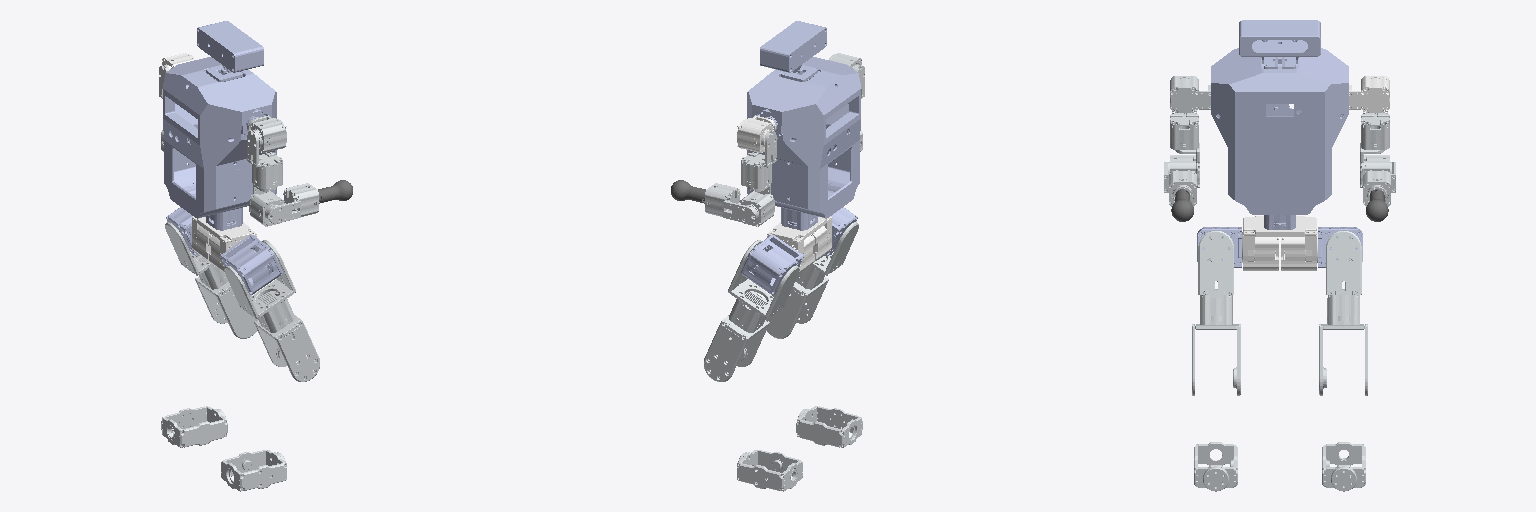
URDF robot description (hi_cl_23_240925):
<?xml version="1.0" encoding="utf-8"?>
<!--
This URDF was automatically created by SolidWorks to URDF Exporter! Originally created by [author] ([email redacted])
Commit Version: 1.6.0-4-g7f85cfe  Build Version: 1.6.7995.38578
For more information, please see http://wiki.ros.org/sw_urdf_exporter
-->
<robot name="hi_cl_23_240925">
	<mujoco>
		<compiler meshdir="meshes/" balanceinertia="true" discardvisual="false" />
	</mujoco>
	<link name="base_link">
		<inertial>
			<origin xyz="-0.00154853 -7.263E-05 -0.0269642" rpy="0 0 0" />
			<mass value="4" />
			<inertia ixx="0.00957622" ixy="1.02E-06" ixz="-8.442E-05" iyy="0.00654424" iyz="1.11E-06" izz="0.00526567" />
		</inertial>
		<visual>
			<origin xyz="0 0 0" rpy="0 0 0" />
			<geometry>
				<mesh filename="meshes/base_link.STL" />
			</geometry>
			<material name="">
				<color rgba="0.79216 0.81961 0.93333 1" />
			</material>
		</visual>
		<collision>
			<origin xyz="0 0 -0.07" rpy="0 0 0" />
			<geometry>
				<box size="0.14 0.20 0.25" />
				<!-- <mesh filename="meshes/base_link.STL" /> -->
			</geometry>
		</collision>
	</link>
<!-- right arm -->
	<link name="r_shoulder_pitch_link">
		<inertial>
			<origin xyz="0.00242196 -0.058252 -8.6807E-05" rpy="0 0 0" />
			<mass value="0.35" />
			<inertia ixx="0.00017393" ixy="-1.346E-05" ixz="-1.1E-07" iyy="0.00013651" iyz="-8E-07" izz="0.00020583" />
		</inertial>
		<visual>
			<origin xyz="0 0 0" rpy="0 0 0" />
			<geometry>
				<mesh filename="meshes/r_shoulder_pitch_link.STL" />
			</geometry>
			<material name="">
				<color rgba="0.89804 0.91765 0.92941 1" />
			</material>
		</visual>
		<collision>
			<origin xyz="0.00242196 -0.068252 -8.6807E-05" rpy="0 0 0" />
			<geometry>
				<box size="0.05 0.05 0.05" />
			</geometry>
		</collision>
	</link>
	<joint name="r_shoulder_pitch_joint" type="revolute">
		<origin xyz="0 -0.08085 0" rpy="0 0 0" />
		<parent link="base_link" />
		<child link="r_shoulder_pitch_link" />
		<axis xyz="0 1 0" />
		<limit lower="-3.14" upper="3.14" effort="16" velocity="21" />
	</joint>
	<link name="r_shoulder_roll_link">
		<inertial>
			<origin xyz="-0.0088047 -8.8789E-05 -0.052824" rpy="0 0 0" />
			<mass value="0.35" />
			<inertia ixx="0.00028497" ixy="-4.1E-07" ixz="8.018E-05" iyy="0.00032147" iyz="-3.6E-07" izz="0.00014121" />
		</inertial>
		<visual>
			<origin xyz="0 0 0" rpy="0 0 0" />
			<geometry>
				<mesh filename="meshes/r_shoulder_roll_link.STL" />
			</geometry>
			<material name="">
				<color rgba="0.89804 0.91765 0.92941 1" />
			</material>
		</visual>
		<collision>
			<origin xyz="-0.009 0.0 -0.052" rpy="0 0 0" />
			<geometry>
				<box size="0.04 0.04 0.04" />
			</geometry>
		</collision>
	</link>
	<joint name="r_shoulder_roll_joint" type="revolute">
		<origin xyz="0 -0.06515 0" rpy="0 0 0" />
		<parent link="r_shoulder_pitch_link" />
		<child link="r_shoulder_roll_link" />
		<axis xyz="1 0 0" />
		<limit lower="-3.14" upper="0.45" effort="16" velocity="21" />
	</joint>
	<link name="r_arm_yaw_link">
		<inertial>
			<origin xyz="-0.002422 -8.6807E-05 -0.059552" rpy="0 0 0" />
			<mass value="0.35" />
			<inertia ixx="0.00017393" ixy="1.1E-07" ixz="1.346E-05" iyy="0.00020583" iyz="-8E-07" izz="0.00013651" />
		</inertial>
		<visual>
			<origin xyz="0 0 0" rpy="0 0 0" />
			<geometry>
				<mesh filename="meshes/r_arm_yaw_link.STL" />
			</geometry>
			<material name="">
				<color rgba="0.89804 0.91765 0.92941 1" />
			</material>
		</visual>
	</link>
	<joint name="r_arm_yaw_joint" type="revolute">
		<origin xyz="-0.0026 0 -0.06495" rpy="0 0 -1.5707963" />
		<parent link="r_shoulder_roll_link" />
		<child link="r_arm_yaw_link" />
		<axis xyz="0 0 1" />
		<limit lower="-3.14" upper="3.14" effort="16" velocity="21" />
	</joint>
	<link name="r_arm_roll_link">
		<inertial>
			<origin xyz="0.0088047 8.8789E-05 -0.052824" rpy="0 0 0" />
			<mass value="0.35" />
			<inertia ixx="0.00028497" ixy="-4.1E-07" ixz="-8.018E-05" iyy="0.00032147" iyz="3.6E-07" izz="0.00014121" />
		</inertial>
		<visual>
			<origin xyz="0 0 0" rpy="0 0 0" />
			<geometry>
				<mesh filename="meshes/r_arm_roll_link.STL" />
			</geometry>
			<material name="">
				<color rgba="0.89804 0.91765 0.92941 1" />
			</material>
		</visual>
		<collision>
			<origin xyz="0.0088047 8.8789E-05 -0.032824" rpy="0 0 0" />
			<geometry>
				<box size="0.03 0.03 0.14" />
			</geometry>
		</collision>
	</link>
	<joint name="r_arm_roll_joint" type="revolute">
		<origin xyz="0 0 -0.06645" rpy="1.5707963 0 0" />
		<parent link="r_arm_yaw_link" />
		<child link="r_arm_roll_link" />
		<axis xyz="1 0 0" />
		<limit lower="-3.14" upper="0.4" effort="16" velocity="21" />
	</joint>
	<link name="r_wrist_yaw_link">
		<inertial>
			<origin xyz="0 0 -0.06558" rpy="0 0 0" />
			<mass value="0.035143" />
			<inertia ixx="1.2175E-05" ixy="9.4252E-23" ixz="1.2115E-20" iyy="1.2175E-05" iyz="-1.456E-19" izz="3.7315E-06" />
		</inertial>
		<visual>
			<origin xyz="0 0 0" rpy="0 0 0" />
			<geometry>
				<mesh filename="meshes/r_wrist_yaw_link.STL" />
			</geometry>
			<material name="">
				<color rgba="0.49804 0.49804 0.49804 1" />
			</material>
		</visual>
		<collision>
			<origin xyz="0 0 -0.07558" rpy="0 0 0" />
			<geometry>
 				<sphere radius="0.02"/>
			</geometry>
		</collision>
	</link>
	<joint name="r_wrist_yaw_joint" type="fixed">
		<origin xyz="0.0026 0 -0.06495" rpy="0 0 0" />
		<parent link="r_arm_roll_link" />
		<child link="r_wrist_yaw_link" />
		<axis xyz="0 0 1" />
		<limit lower="-3.14" upper="3.14" effort="16" velocity="21" />
	</joint>
<!-- left arm -->
	<link name="l_shoulder_pitch_link">
		<inertial>
			<origin xyz="0.00095302 0.058734 -8.0741E-05" rpy="0 0 0" />
			<mass value="0.35" />
			<inertia ixx="0.00016981" ixy="1.582E-05" ixz="-6E-08" iyy="0.00014053" iyz="7.3E-07" izz="0.00020608" />
		</inertial>
		<visual>
			<origin xyz="0 0 0" rpy="0 0 0" />
			<geometry>
				<mesh filename="meshes/l_shoulder_pitch_link.STL" />
			</geometry>
			<material name="">
				<color rgba="1 1 1 1" />
			</material>
		</visual>
		<collision>
			<origin xyz="0.00095302 0.068734 -8.0741E-05" rpy="0 0 0" />
			<geometry>
				<box size="0.05 0.05 0.05" />
			</geometry>
		</collision>
	</link>
	<joint name="l_shoulder_pitch_joint" type="revolute">
		<origin xyz="0 0.08085 0" rpy="0 0 0" />
		<parent link="base_link" />
		<child link="l_shoulder_pitch_link" />
		<axis xyz="0 1 0" />
		<limit lower="-3.14" upper="3.14" effort="16" velocity="21" />
	</joint>
	<link name="l_shoulder_roll_link">
		<inertial>
			<origin xyz="-0.0088047 8.879E-05 -0.052824" rpy="0 0 0" />
			<mass value="0.35" />
			<inertia ixx="0.00028497" ixy="4.1E-07" ixz="8.018E-05" iyy="0.00032147" iyz="3.6E-07" izz="0.00014121" />
		</inertial>
		<visual>
			<origin xyz="0 0 0" rpy="0 0 0" />
			<geometry>
				<mesh filename="meshes/l_shoulder_roll_link.STL" />
			</geometry>
			<material name="">
				<color rgba="0.89804 0.91765 0.92941 1" />
			</material>
		</visual>
		<collision>
			<origin xyz="-0.009 0.0 -0.052" rpy="0 0 0" />
			<geometry>
				<box size="0.04 0.04 0.04" />
			</geometry>
		</collision>
	</link>
	<joint name="l_shoulder_roll_joint" type="revolute">
		<origin xyz="0 0.06515 0" rpy="0 0 0" />
		<parent link="l_shoulder_pitch_link" />
		<child link="l_shoulder_roll_link" />
		<axis xyz="1 0 0" />
		<limit lower="-0.45" upper="3.14" effort="16" velocity="21" />
	</joint>
	<link name="l_arm_yaw_link">
		<inertial>
			<origin xyz="-0.002422 8.6807E-05 -0.059552" rpy="0 0 0" />
			<mass value="0.35" />
			<inertia ixx="0.00017393" ixy="-1.1E-07" ixz="1.346E-05" iyy="0.00020583" iyz="8E-07" izz="0.00013651" />
		</inertial>
		<visual>
			<origin xyz="0 0 0" rpy="0 0 0" />
			<geometry>
				<mesh filename="meshes/l_arm_yaw_link.STL" />
			</geometry>
			<material name="">
				<color rgba="0.89804 0.91765 0.92941 1" />
			</material>
		</visual>
	</link>
	<joint name="l_arm_yaw_joint" type="revolute">
		<origin xyz="-0.0026 0 -0.06495" rpy="0 0 1.5707963" />
		<parent link="l_shoulder_roll_link" />
		<child link="l_arm_yaw_link" />
		<axis xyz="0 0 1" />
		<limit lower="-3.14" upper="3.14" effort="16" velocity="21" />
	</joint>
	<link name="l_arm_roll_link">
		<inertial>
			<origin xyz="0.0088047 -8.879E-05 -0.052824" rpy="0 0 0" />
			<mass value="0.35" />
			<inertia ixx="0.00028497" ixy="4.1E-07" ixz="-8.018E-05" iyy="0.00032147" iyz="-3.6E-07" izz="0.00014121" />
		</inertial>
		<visual>
			<origin xyz="0 0 0" rpy="0 0 0" />
			<geometry>
				<mesh filename="meshes/l_arm_roll_link.STL" />
			</geometry>
			<material name="">
				<color rgba="0.89804 0.91765 0.92941 1" />
			</material>
		</visual>
		<collision>
			<origin xyz="0.0088047 -8.879E-05 -0.032824" rpy="0 0 0" />
			<geometry>
				<box size="0.03 0.03 0.14" />
			</geometry>
		</collision>
	</link>
	<joint name="l_arm_roll_joint" type="revolute">
		<origin xyz="0 0 -0.06645" rpy="-1.5707963 0 0" />
		<parent link="l_arm_yaw_link" />
		<child link="l_arm_roll_link" />
		<axis xyz="1 0 0" />
		<limit lower="-0.4" upper="3.14" effort="16" velocity="21" />
	</joint>
	<link name="l_wrist_yaw_link">
		<inertial>
			<origin xyz="1.1102E-16 3.7151E-14 -0.06558" rpy="0 0 0" />
			<mass value="0.035143" />
			<inertia ixx="1.2175E-05" ixy="2.3882E-22" ixz="2.2238E-20" iyy="1.2175E-05" iyz="3.9298E-20" izz="3.7315E-06" />
		</inertial>
		<visual>
			<origin xyz="0 0 0" rpy="0 0 0" />
			<geometry>
				<mesh filename="meshes/l_wrist_yaw_link.STL" />
			</geometry>
			<material name="">
				<color rgba="0.49804 0.49804 0.49804 1" />
			</material>
		</visual>
		<collision>
			<origin xyz="0.0 0.0 -0.07558" rpy="0 0 0" />
			<geometry>
 				<sphere radius="0.02"/>
			</geometry>
		</collision>
	</link>
	<joint name="l_wrist_yaw_joint" type="fixed">
		<origin xyz="0.0026 0 -0.06495" rpy="0 0 0" />
		<parent link="l_arm_roll_link" />
		<child link="l_wrist_yaw_link" />
		<axis xyz="0 0 1" />
		<limit lower="-3.14" upper="3.14" effort="16" velocity="21" />
	</joint>
<!-- loin -->
	<link name="loin_yaw_link">
		<inertial>
			<origin xyz="0 0 -0.060242" rpy="0 0 0" />
			<mass value="1.305" />
			<inertia ixx="0.0015765" ixy="2.98E-06" ixz="0" iyy="0.00041876" iyz="0" izz="0.0014561" />
		</inertial>
		<visual>
			<origin xyz="0 0 0" rpy="0 0 0" />
			<geometry>
				<mesh filename="meshes/loin_yaw_link.STL" />
			</geometry>
			<material name="">
				<color rgba="1 1 1 1" />
			</material>
		</visual>
		<collision>
			<origin xyz="0 0 -0.06" rpy="0 0 0" />
			<geometry>
				<box size="0.06 0.12 0.06" />
				<!-- <mesh filename="meshes/loin_yaw_link.STL" /> -->
			</geometry>
		</collision>
	</link>
	<joint name="torso_joint" type="revolute">
		<origin xyz="0 0 0.19425" rpy="0 0 0" />
		<parent link="loin_yaw_link" />
		<child link="base_link" />
		<axis xyz="0 0 1" />
		<limit lower="-3.14" upper="3.14" effort="36" velocity="21" />
	</joint>
<!-- right leg -->
	<link name="r_hip_pitch_link">
		<inertial>
			<origin xyz="-0.00022626 -0.06684 9.015E-05" rpy="0 0 0" />
			<mass value="0.661" />
			<inertia ixx="0.00018617" ixy="-1E-08" ixz="1.2E-07" iyy="0.00019782" iyz="4.7E-07" izz="0.0002263" />
		</inertial>
		<visual>
			<origin xyz="0 0 0" rpy="0 0 0" />
			<geometry>
				<mesh filename="meshes/r_hip_pitch_link.STL" />
			</geometry>
			<material name="">
				<color rgba="0.79216 0.81961 0.93333 1" />
			</material>
		</visual>
		<collision>
			<origin xyz="0 -0.07 0" rpy="0 0 0" />
			<geometry>
				<box size="0.06 0.06 0.06" />
				<!-- <mesh filename="meshes/r_hip_pitch_link.STL" /> -->
			</geometry>
		</collision>
	</link>
	<joint name="r_hip_pitch_joint" type="revolute">
		<origin xyz="0 -0.02875 -0.06425" rpy="0 -0.4 0" />
		<parent link="loin_yaw_link" />
		<child link="r_hip_pitch_link" />
		<axis xyz="0 1 0" />
		<limit lower="-1.0" upper="1.8" effort="36" velocity="21" />
	</joint>
	<link name="r_hip_roll_link">
		<inertial>
			<origin xyz="0.00088845 -0.00019059 -0.066357" rpy="0 0 0" />
			<mass value="0.54219" />
			<inertia ixx="0.00096893" ixy="-6.4E-07" ixz="-2.26E-05" iyy="0.0012165" iyz="-2.89E-06" izz="0.0004037" />
		</inertial>
		<visual>
			<origin xyz="0 0 0" rpy="0 0 0" />
			<geometry>
				<mesh filename="meshes/r_hip_roll_link.STL" />
			</geometry>
			<material name="">
				<color rgba="0.89804 0.91765 0.92941 1" />
			</material>
		</visual>
		<collision>
			<origin xyz="0 0 -0.08" rpy="0 0 0" />
			<geometry>
				<box size="0.06 0.06 0.06" />
				<!-- <mesh filename="meshes/r_hip_roll_link.STL" /> -->
			</geometry>
		</collision>
	</link>
	<joint name="r_hip_roll_joint" type="revolute">
		<origin xyz="0 -0.06875 0" rpy="0 0 0" />
		<parent link="r_hip_pitch_link" />
		<child link="r_hip_roll_link" />
		<axis xyz="1 0 0" />
		<limit lower="-0.5" upper="0.12" effort="36" velocity="21" />
	</joint>
	<link name="r_thigh_link">
		<inertial>
			<origin xyz="0 0.0019897 -0.066297" rpy="0 0 0" />
			<mass value="0.23898" />
			<inertia ixx="0.00050536" ixy="-1.1811E-12" ixz="5.2665E-11" iyy="0.00032488" iyz="1.858E-05" izz="0.00029126" />
		</inertial>
		<visual>
			<origin xyz="0 0 0" rpy="0 0 0" />
			<geometry>
				<mesh filename="meshes/r_thigh_link.STL" />
			</geometry>
			<material name="">
				<color rgba="0.89804 0.91765 0.92941 1" />
			</material>
		</visual>
		<collision>
			<origin xyz="0 0 -0.06" rpy="0 0 0" />
			<geometry>
				<box size="0.06 0.06 0.06" />
				<mesh filename="meshes/r_thigh_link.STL" />
			</geometry>
		</collision>
	</link>
	<joint name="r_hip_yaw_joint" type="revolute">
		<origin xyz="0 0 -0.09425" rpy="0 0 0" />
		<parent link="r_hip_roll_link" />
		<child link="r_thigh_link" />
		<axis xyz="0 0 1" />
		<limit lower="-0.6" upper="0.3" effort="36" velocity="21" />
	</joint>
	<link name="r_calf_link">
		<inertial>
			<origin xyz="-8.965E-05 -0.0020679 -0.050651" rpy="0 0 0" />
			<mass value="1.2" />
			<inertia ixx="0.0068013" ixy="2.6E-07" ixz="-3.47E-06" iyy="0.006751" iyz="-4.2E-07" izz="0.00034715" />
		</inertial>
		<visual>
			<origin xyz="0 0 0" rpy="0 0 0" />
			<geometry>
				<mesh filename="meshes/r_calf_link.STL" />
			</geometry>
			<material name="">
				<color rgba="0.79216 0.81961 0.93333 1" />
			</material>
		</visual>
		<collision>
			<origin xyz="0 0 -0.1" rpy="0 0 0" />
			<geometry>
				<box size="0.012 0.06 0.1" />
				<!-- <mesh filename="meshes/r_calf_link.STL" /> -->
			</geometry>
		</collision>
	</link>
	<joint name="r_knee_joint" type="revolute">
		<origin xyz="0 0 -0.10575" rpy="0 0.8 0" />
		<parent link="r_thigh_link" />
		<child link="r_calf_link" />
		<axis xyz="0 1 0" />
		<limit lower="-0.8" upper="1.5" effort="36" velocity="21" />
	</joint>
	<link name="r_ankle_pitch_link">
		<inertial>
			<origin xyz="0.0072806 0.00051939 2.2469E-12" rpy="0 0 0" />
			<mass value="0.16682" />
			<inertia ixx="0.0001187" ixy="1E-06" ixz="0" iyy="0.0001994" iyz="3.7295E-17" izz="0.00028526" />
		</inertial>
		<visual>
			<origin xyz="0 0 0" rpy="0 0 0" />
			<geometry>
				<mesh filename="meshes/r_ankle_pitch_link.STL" />
			</geometry>
			<material name="">
				<color rgba="0.89804 0.91765 0.92941 1" />
			</material>
		</visual>
		<collision>
			<origin xyz="0 0 0" rpy="0 0 0" />
			<geometry>
				<box size="0.078 0.08 0.05" />
				<!-- <mesh filename="meshes/r_ankle_pitch_link.STL" /> -->
			</geometry>
		</collision>
	</link>
	<joint name="r_ankle_pitch_joint" type="revolute">
		<origin xyz="0 0 -0.2" rpy="0 -0.4 0" />
		<parent link="r_calf_link" />
		<child link="r_ankle_pitch_link" />
		<axis xyz="0 1 0" />
		<limit lower="-0.45" upper="1.15" effort="16" velocity="21" />
	</joint>
	<link name="r_ankle_roll_link">
		<inertial>
			<origin xyz="-0.040001 9.312E-05 -0.023563" rpy="0 0 0" />
			<mass value="0.5" />
			<inertia ixx="0.00040772" ixy="-2.34E-06" ixz="-9.125E-05" iyy="0.0015071" iyz="-4.6E-07" izz="0.0013858" />
		</inertial>
		<visual>
			<origin xyz="0 0 0" rpy="0 0 0" />
			<geometry>
				<mesh filename="meshes/r_ankle_roll_link.STL" />
			</geometry>
			<material name="">
				<color rgba="1 1 1 1" />
			</material>
		</visual>
		<collision>
			<origin xyz="0 0 0" rpy="0 0 0" />
			<geometry>
				<mesh filename="meshes/r_ankle_roll_link.STL" />
			</geometry>
		</collision>
	</link>
	<joint name="r_ankle_roll_joint" type="revolute">
		<origin xyz="0.07525 -0.0003 0" rpy="0 0 0" />
		<parent link="r_ankle_pitch_link" />
		<child link="r_ankle_roll_link" />
		<axis xyz="1 0 0" />
		<limit lower="-0.15" upper="0.15" effort="16" velocity="21" />
	</joint>
<!-- left leg -->
	<link name="l_hip_pitch_link">
		<inertial>
			<origin xyz="-0.00022626 0.06700617 8.992E-05" rpy="0 0 0" />
			<mass value="0.661" />
			<inertia ixx="0.00018657" ixy="1.9E-07" ixz="1.1E-07" iyy="0.00019782" iyz="2.5E-07" izz="0.00022671" />
		</inertial>
		<visual>
			<origin xyz="0 0 0" rpy="0 0 0" />
			<geometry>
				<mesh filename="meshes/l_hip_pitch_link.STL" />
			</geometry>
			<material name="">
				<color rgba="0.79216 0.81961 0.93333 1" />
			</material>
		</visual>
		<collision>
			<origin xyz="0 0.07 0" rpy="0 0 0" />
			<geometry>
				<box size="0.06 0.06 0.06" />
				<!-- <mesh filename="meshes/l_hip_pitch_link.STL" /> -->
			</geometry>
		</collision>
	</link>
	<joint name="l_hip_pitch_joint" type="revolute">
		<origin xyz="0 0.02875 -0.06425" rpy="0 -0.4 0" />
		<parent link="loin_yaw_link" />
		<child link="l_hip_pitch_link" />
		<axis xyz="0 1 0" />
		<limit lower="-1.0" upper="1.8" effort="36" velocity="21" />
	</joint>
	<link name="l_hip_roll_link">
		<inertial>
			<origin xyz="0.00051186 -0.000186 -0.06635681" rpy="0 0 0" />
			<mass value="0.54219" />
			<inertia ixx="0.00096867" ixy="4.9E-07" ixz="-2.833E-05" iyy="0.00121705" iyz="-2.83E-06" izz="0.00040399" />
		</inertial>
		<visual>
			<origin xyz="0 0 0" rpy="0 0 0" />
			<geometry>
				<mesh filename="meshes/l_hip_roll_link.STL" />
			</geometry>
			<material name="">
				<color rgba="0.89804 0.91765 0.92941 1" />
			</material>
		</visual>
		<collision>
			<origin xyz="0 0 -0.08" rpy="0 0 0" />
			<geometry>
				<box size="0.06 0.06 0.06" />
				<!-- <mesh filename="meshes/l_hip_roll_link.STL" /> -->
			</geometry>
		</collision>
	</link>
	<joint name="l_hip_roll_joint" type="revolute">
		<origin xyz="0 0.06875 0" rpy="0 0 0" />
		<parent link="l_hip_pitch_link" />
		<child link="l_hip_roll_link" />
		<axis xyz="1 0 0" />
		<limit lower="-0.12" upper="0.5" effort="36" velocity="21" />
	</joint>
	<link name="l_thigh_link">
		<inertial>
			<origin xyz="0 -0.0019897 -0.066297" rpy="0 0 0" />
			<mass value="0.23898" />
			<inertia ixx="0.00050536" ixy="0" ixz="0" iyy="0.00032488" iyz="-1.858E-05" izz="0.00029126" />
		</inertial>
		<visual>
			<origin xyz="0 0 0" rpy="0 0 0" />
			<geometry>
				<mesh filename="meshes/l_thigh_link.STL" />
			</geometry>
			<material name="">
				<color rgba="0.89804 0.91765 0.92941 1" />
			</material>
		</visual>
		<collision>
			<origin xyz="0 0 -0.06" rpy="0 0 0" />
			<geometry>
				<box size="0.06 0.06 0.06" />
				<!-- <mesh filename="meshes/l_thigh_link.STL" /> -->
			</geometry>
		</collision>
	</link>
	<joint name="l_hip_yaw_joint" type="revolute">
		<origin xyz="0 0 -0.09425" rpy="0 0 0" />
		<parent link="l_hip_roll_link" />
		<child link="l_thigh_link" />
		<axis xyz="0 0 1" />
		<limit lower="-0.3" upper="0.6" effort="36" velocity="21" />
	</joint>
	<link name="l_calf_link">
		<inertial>
			<origin xyz="8.965E-05 0.00206794 -0.05065108" rpy="0 0 0" />
			<mass value="1.2" />
			<inertia ixx="0.0068013" ixy="2.6E-07" ixz="3.47E-06" iyy="0.00675095" iyz="4.2E-07" izz="0.00034715" />
		</inertial>
		<visual>
			<origin xyz="0 0 0" rpy="0 0 0" />
			<geometry>
				<mesh filename="meshes/l_calf_link.STL" />
			</geometry>
			<material name="">
				<color rgba="1 1 1 1" />
			</material>
		</visual>
		<collision>
			<origin xyz="0 0 -0.1" rpy="0 0 0" />
			<geometry>
				<box size="0.012 0.06 0.1" />
				<!-- <mesh filename="meshes/l_calf_link.STL" /> -->
			</geometry>
		</collision>
	</link>
	<joint name="l_knee_joint" type="revolute">
		<origin xyz="0 0 -0.10575" rpy="0 0.8 0" />
		<parent link="l_thigh_link" />
		<child link="l_calf_link" />
		<axis xyz="0 1 0" />
		<limit lower="-0.8" upper="1.5" effort="36" velocity="21" />
	</joint>
	<link name="l_ankle_pitch_link">
		<inertial>
			<origin xyz="0.00467932 -0.00047699 2.1252E-12" rpy="0 0 0" />
			<mass value="0.16682" />
			<inertia ixx="0.00011981" ixy="-6.4E-07" ixz="-8.1927E-13" iyy="0.00022179" iyz="-3.7346E-17" izz="0.00030766" />
		</inertial>
		<visual>
			<origin xyz="0 0 0" rpy="0 0 0" />
			<geometry>
				<mesh filename="meshes/l_ankle_pitch_link.STL" />
			</geometry>
			<material name="">
				<color rgba="0.89804 0.91765 0.92941 1" />
			</material>
		</visual>
		<collision>
			<origin xyz="0 0 0" rpy="0 0 0" />
			<geometry>
				<box size="0.078 0.08 0.05" />
				<!-- <mesh filename="meshes/l_ankle_pitch_link.STL" /> -->
			</geometry>
		</collision>
	</link>
	<joint name="l_ankle_pitch_joint" type="revolute">
		<origin xyz="0 0 -0.2" rpy="0 -0.4 0" />
		<parent link="l_calf_link" />
		<child link="l_ankle_pitch_link" />
		<axis xyz="0 1 0" />
		<limit lower="-0.45" upper="1.15" effort="16" velocity="21" />
	</joint>
	<link name="l_ankle_roll_link">
		<inertial>
			<origin xyz="-0.03772 9.584E-05 -0.02425" rpy="0 0 0" />
			<mass value="0.5" />
			<inertia ixx="0.0004095" ixy="-2.3E-06" ixz="-0.00012156" iyy="0.00145" iyz="-5.1E-07" izz="0.0013334" />
		</inertial>
		<visual>
			<origin xyz="0 0 0" rpy="0 0 0" />
			<geometry>
				<mesh filename="meshes/l_ankle_roll_link.STL" />
			</geometry>
			<material name="">
				<color rgba="0.89804 0.91765 0.92941 1" />
			</material>
		</visual>
		<collision>
			<origin xyz="0 0 0" rpy="0 0 0" />
			<geometry>
				<mesh filename="meshes/l_ankle_roll_link.STL" />
			</geometry>
		</collision>
	</link>
	<joint name="l_ankle_roll_joint" type="revolute">
		<origin xyz="0.07525 0.0003 0" rpy="0 0 0" />
		<parent link="l_ankle_pitch_link" />
		<child link="l_ankle_roll_link" />
		<axis xyz="1 0 0" />
		<limit lower="-0.15" upper="0.15" effort="16" velocity="21" />
	</joint>
	<link name="l_toe_link"/>
	<joint name="l_toe_joint" type="fixed">
		<origin xyz="-0.0 0.02 -0.03" rpy="0 0 0" />
		<parent link="l_ankle_roll_link" />
		<child link="l_toe_link" />
	</joint>
	<link name="r_toe_link"/>
	<joint name="r_toe_joint" type="fixed">
		<origin xyz="-0.0 -0.02 -0.03" rpy="0 0 0" />
		<parent link="r_ankle_roll_link" />
		<child link="r_toe_link" />
	</joint>
	<link name="l_hand_link"/>
	<joint name="l_hand_joint" type="fixed">
		<origin xyz="0.0 0 -0.07" rpy="0 0 0" />
		<parent link="l_wrist_yaw_link" />
		<child link="l_hand_link" />
	</joint>
	<link name="r_hand_link"/>
	<joint name="r_hand_joint" type="fixed">
		<origin xyz="0.0 0 -0.07" rpy="0 0 0" />
		<parent link="r_wrist_yaw_link" />
		<child link="r_hand_link" />
	</joint>
	<link name="head_link"/>
	<joint name="head_joint" type="fixed">
		<origin xyz="0.0 0 0.12" rpy="0 0 0" />
		<parent link="base_link" />
		<child link="head_link" />
	</joint>
</robot>

--- Facts derived from the render (not from the file) ---
The picture shows the robot from 3 angles, left to right: view 1: azimuth 30°, elevation 25°; view 2: azimuth 150°, elevation 25°; view 3: azimuth 270°, elevation 25°; orthographic projection.
Model hi_cl_23_240925 with 29 links and 28 joints (21 revolute, 7 fixed), rooted at loin_yaw_link, posed every joint at zero.
Visible links, largest first — view 1: base_link, r_hip_roll_link, r_thigh_link, l_ankle_pitch_link, r_ankle_pitch_link, r_hip_pitch_link, l_thigh_link, loin_yaw_link, r_arm_roll_link, r_shoulder_roll_link, l_hip_roll_link, r_shoulder_pitch_link (+3 smaller); view 2: base_link, l_hip_roll_link, l_thigh_link, l_ankle_pitch_link, r_ankle_pitch_link, l_hip_pitch_link, r_thigh_link, loin_yaw_link, l_arm_roll_link, l_shoulder_roll_link, r_hip_roll_link, l_shoulder_pitch_link (+3 smaller); view 3: base_link, loin_yaw_link, r_hip_roll_link, l_hip_roll_link, l_ankle_pitch_link, r_ankle_pitch_link, r_shoulder_pitch_link, l_shoulder_pitch_link, r_shoulder_roll_link, l_shoulder_roll_link, l_arm_roll_link, r_arm_roll_link (+8 smaller).
Boxes of the visible links, x1,y1,x2,y2 form: base_link: [163, 21, 276, 230]; r_hip_roll_link: [224, 240, 295, 332]; r_thigh_link: [254, 315, 319, 381]; l_ankle_pitch_link: [161, 406, 227, 447]; r_ankle_pitch_link: [221, 450, 286, 491]; r_hip_pitch_link: [220, 234, 282, 294]; l_thigh_link: [195, 277, 257, 338]; loin_yaw_link: [192, 216, 256, 272]; r_arm_roll_link: [267, 183, 319, 223]; r_shoulder_roll_link: [247, 130, 282, 188]; l_hip_roll_link: [165, 222, 228, 289]; r_shoulder_pitch_link: [248, 115, 286, 152]; base_link: [747, 21, 860, 230]; l_hip_roll_link: [728, 240, 799, 332]; l_thigh_link: [704, 315, 769, 381]; l_ankle_pitch_link: [737, 450, 802, 491]; r_ankle_pitch_link: [796, 406, 862, 447]; l_hip_pitch_link: [741, 234, 803, 294]; r_thigh_link: [766, 277, 828, 338]; loin_yaw_link: [767, 216, 831, 272]; l_arm_roll_link: [704, 183, 756, 223]; l_shoulder_roll_link: [741, 130, 776, 188]; r_hip_roll_link: [795, 222, 858, 289]; l_shoulder_pitch_link: [737, 115, 775, 152]; base_link: [1211, 20, 1348, 229]; loin_yaw_link: [1242, 216, 1317, 270]; r_hip_roll_link: [1198, 230, 1233, 324]; l_hip_roll_link: [1326, 230, 1361, 324]; l_ankle_pitch_link: [1322, 442, 1365, 491]; r_ankle_pitch_link: [1194, 442, 1237, 491]; r_shoulder_pitch_link: [1170, 76, 1210, 113]; l_shoulder_pitch_link: [1349, 76, 1389, 113]; r_shoulder_roll_link: [1170, 112, 1198, 149]; l_shoulder_roll_link: [1361, 112, 1389, 149]; l_arm_roll_link: [1363, 162, 1395, 206]; r_arm_roll_link: [1164, 162, 1196, 206].
Bounding box of the posed robot: 0.238 × 0.3562 × 0.7639 m (x, y, z).
20 mesh visuals loaded from 24 distinct referenced files (20 binary STL); not drawn: 4 (reference not matched to a file when rendering).
